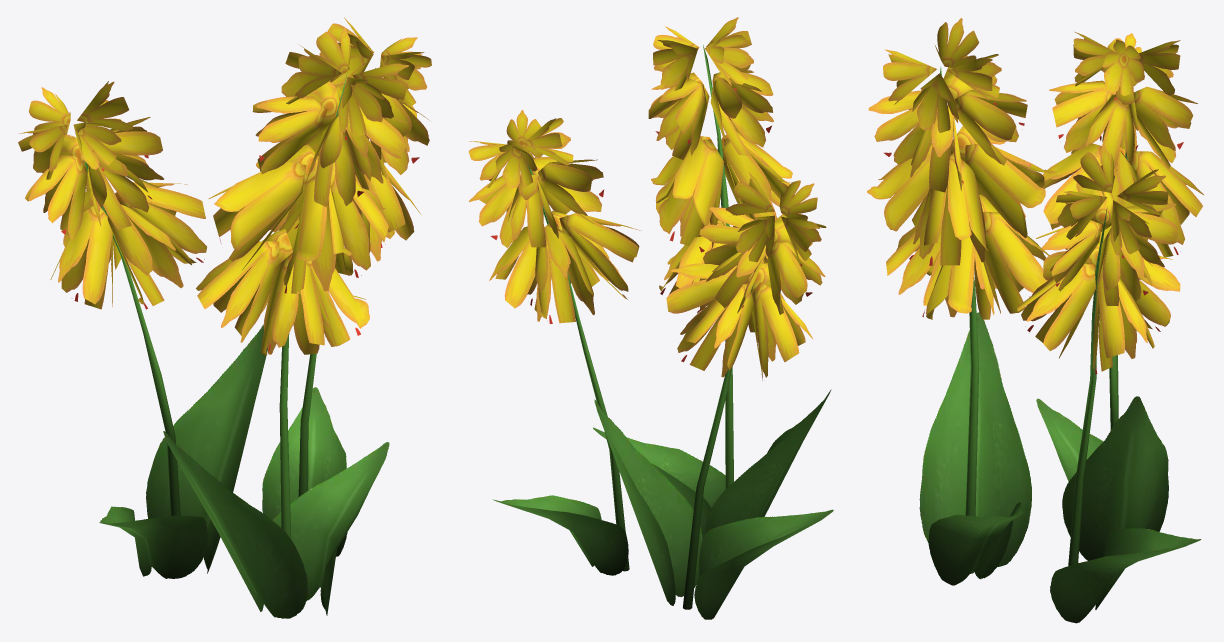
Rendered from flowers-2.glb.
3 renders of one model, left to right at view 1: azimuth 30°, elevation 25°; view 2: azimuth 150°, elevation 25°; view 3: azimuth 270°, elevation 25°, orthographic. The views are drawn at different scales.
Parts seen in each view (by area): view 1: Flower_4_Group; view 2: Flower_4_Group; view 3: Flower_4_Group.
Boxes of the visible parts, x1,y1,x2,y2 form: Flower_4_Group: (18, 17, 431, 618); Flower_4_Group: (468, 17, 833, 619); Flower_4_Group: (867, 18, 1203, 623).
Bounding box in the file's own units: 1.78 × 2.49 × 1.37.
Materials: 2 (2 with a texture image).
